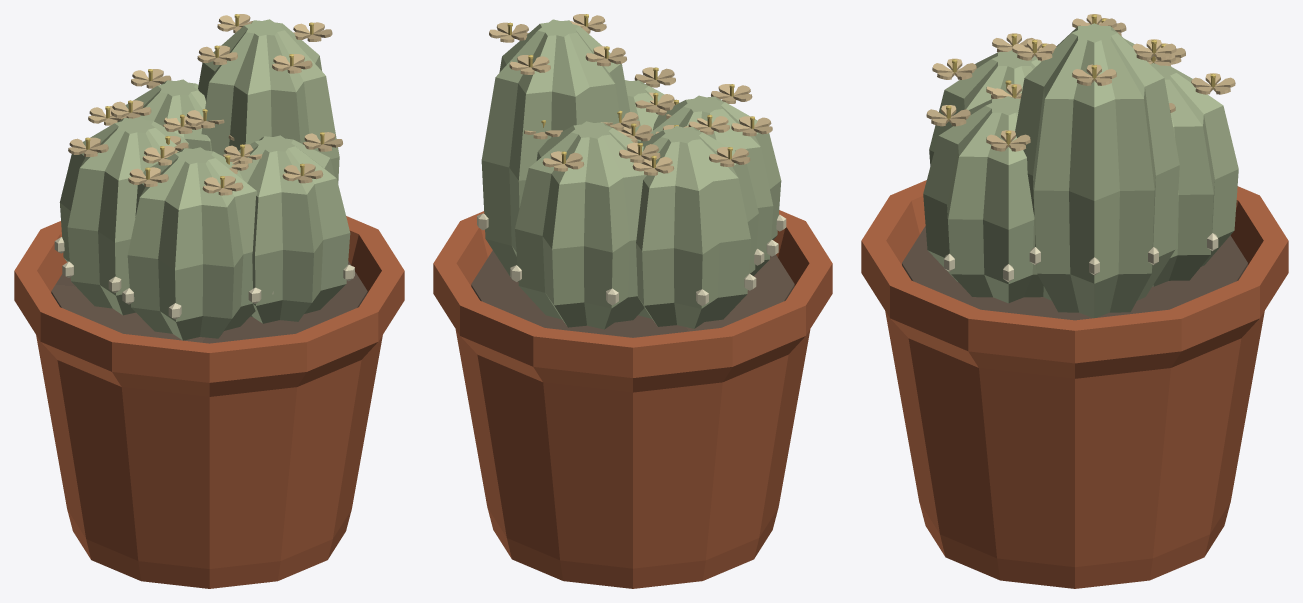
The model's file is new-bocasana.glb.
The picture shows the model from 3 angles, left to right: view 1: azimuth 30°, elevation 25°; view 2: azimuth 150°, elevation 25°; view 3: azimuth 270°, elevation 25°; orthographic projection. The views are drawn at different scales.
Visible parts, largest first — view 1: new-bocasana/review-terra-vessel, new-bocasana/ribbed-stem-106, new-bocasana/ribbed-stem-141, new-bocasana/ribbed-stem-001, new-bocasana/ribbed-stem-071, new-bocasana/review-rooted-soil, new-bocasana/ribbed-stem-036; view 2: new-bocasana/review-terra-vessel, new-bocasana/ribbed-stem-036, new-bocasana/ribbed-stem-071, new-bocasana/ribbed-stem-001, new-bocasana/review-rooted-soil, new-bocasana/ribbed-stem-106, new-bocasana/ribbed-stem-141; view 3: new-bocasana/review-terra-vessel, new-bocasana/ribbed-stem-001, new-bocasana/ribbed-stem-141, new-bocasana/ribbed-stem-036, new-bocasana/review-rooted-soil, new-bocasana/ribbed-stem-106.
Part boxes in pixels (<box>): new-bocasana/review-terra-vessel: <box>14,216,404,588</box>; new-bocasana/ribbed-stem-106: <box>127,147,257,340</box>; new-bocasana/ribbed-stem-141: <box>238,135,350,323</box>; new-bocasana/ribbed-stem-001: <box>198,19,339,183</box>; new-bocasana/ribbed-stem-071: <box>59,117,189,315</box>; new-bocasana/review-rooted-soil: <box>51,261,367,343</box>; new-bocasana/ribbed-stem-036: <box>117,79,211,150</box>; new-bocasana/review-terra-vessel: <box>433,210,832,588</box>; new-bocasana/ribbed-stem-036: <box>515,121,646,329</box>; new-bocasana/ribbed-stem-071: <box>636,126,758,328</box>; new-bocasana/ribbed-stem-001: <box>481,19,630,281</box>; new-bocasana/review-rooted-soil: <box>471,250,794,337</box>; new-bocasana/ribbed-stem-106: <box>641,95,781,275</box>; new-bocasana/ribbed-stem-141: <box>625,80,679,142</box>; new-bocasana/review-terra-vessel: <box>861,180,1288,588</box>; new-bocasana/ribbed-stem-001: <box>1015,23,1179,318</box>; new-bocasana/ribbed-stem-141: <box>923,96,1043,303</box>; new-bocasana/ribbed-stem-036: <box>1150,63,1238,286</box>; new-bocasana/review-rooted-soil: <box>902,226,1247,320</box>; new-bocasana/ribbed-stem-106: <box>929,50,1041,165</box>.
Bounding box in the file's own units: 0.19 × 0.2586 × 0.19.
Materials: 6 (6 with a texture image).
